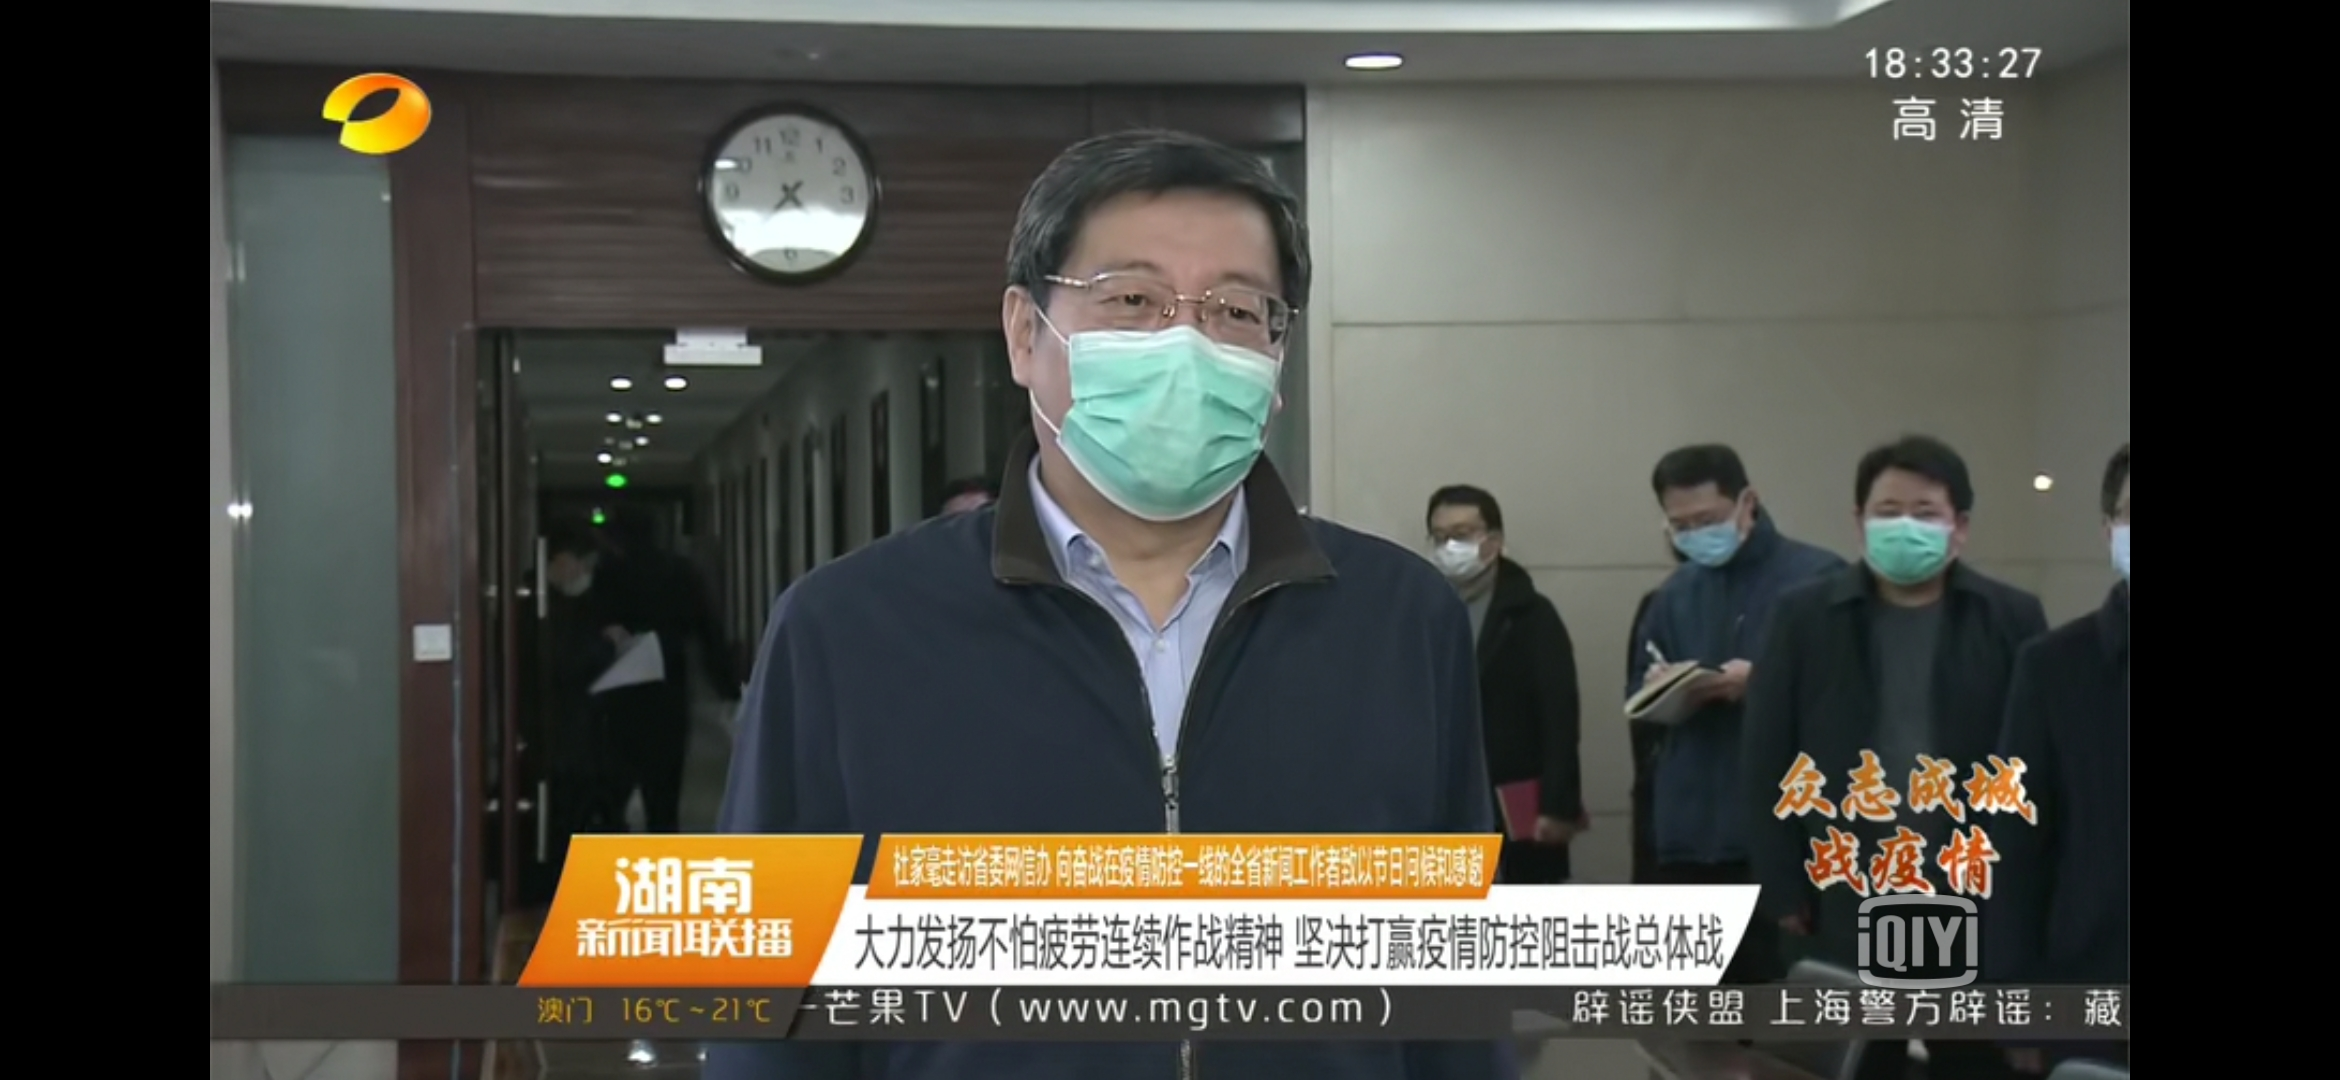correctlyWear: (998, 249, 1303, 527), (1855, 488, 1970, 591), (1668, 489, 1761, 577), (1424, 515, 1504, 585), (2100, 473, 2131, 601), (555, 550, 598, 598)
